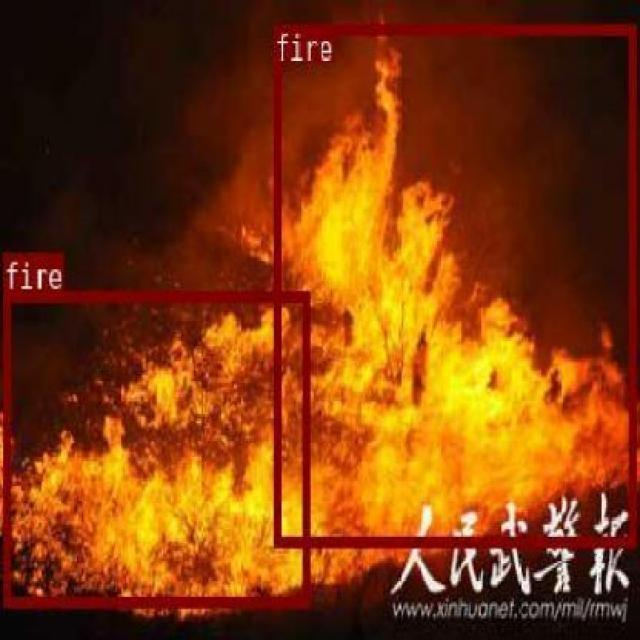fire: (273, 24, 635, 546), (3, 291, 309, 607)
